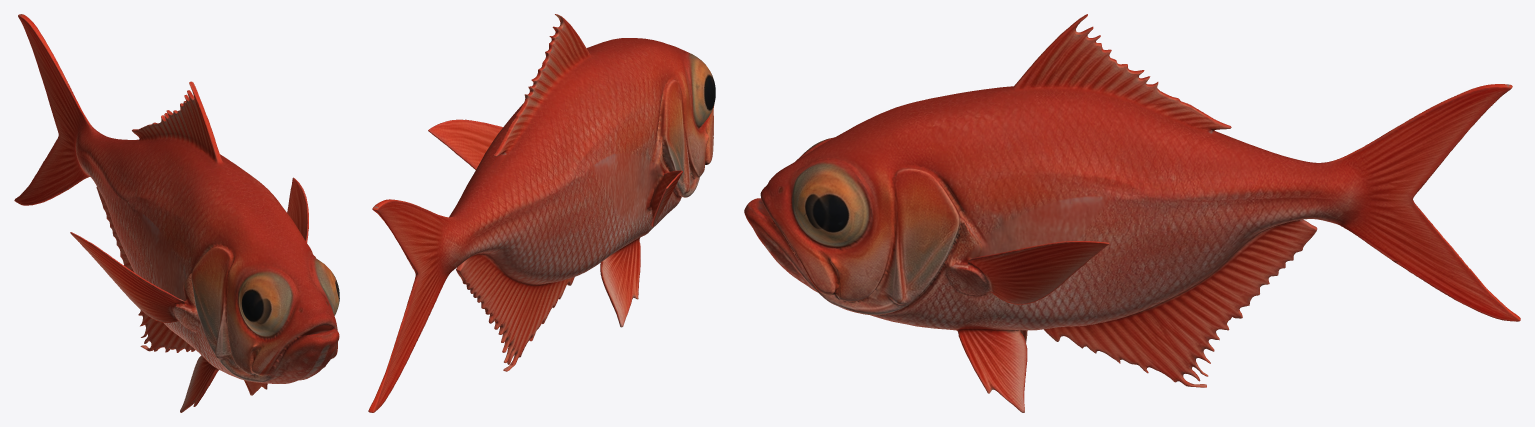
The model's file is kinmedai.glb.
The picture shows the model from 3 angles, left to right: view 1: azimuth 30°, elevation 25°; view 2: azimuth 150°, elevation 25°; view 3: azimuth 270°, elevation 25°; orthographic projection. The views are drawn at different scales.
Size of the model in its own units: 0.785 by 1.02 by 1.9.
Materials: 1 (1 with a texture image).
